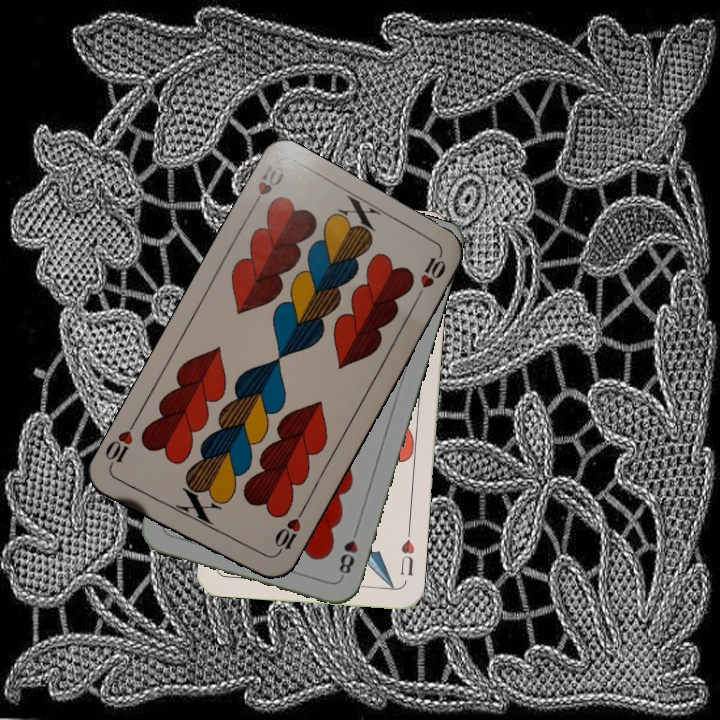H10: (246, 157, 287, 215), (270, 506, 307, 560)
H8: (334, 523, 361, 581)
HU: (396, 525, 417, 579)
